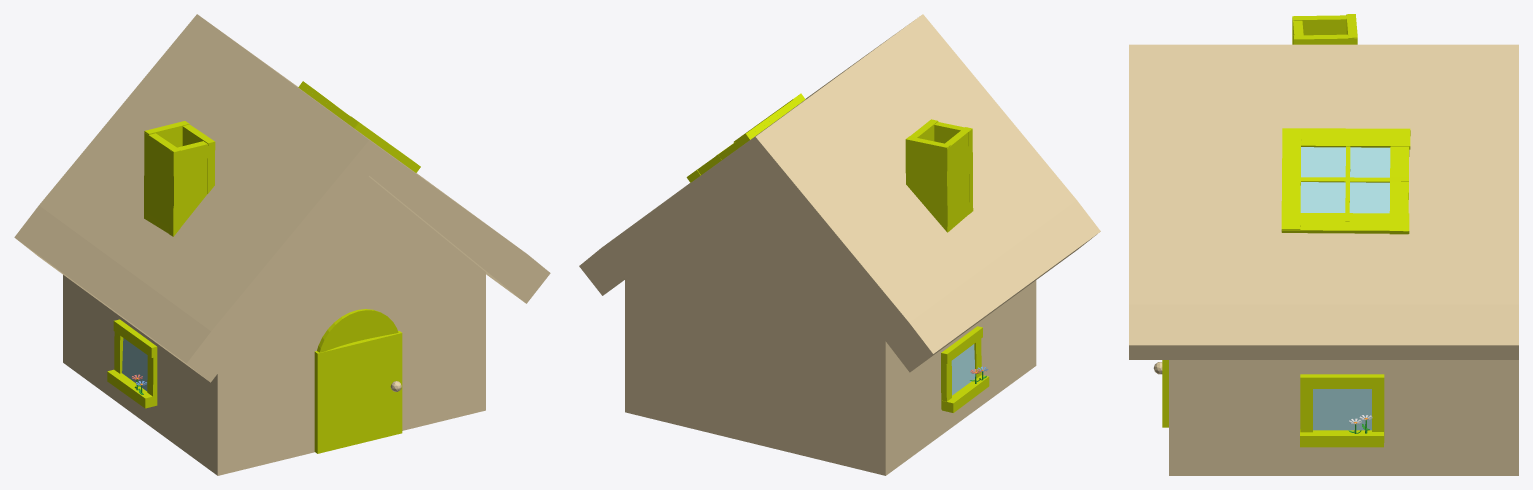
File: HouseYellow.fbx
3 renders of one model, left to right at view 1: azimuth 30°, elevation 25°; view 2: azimuth 150°, elevation 25°; view 3: azimuth 270°, elevation 25°, orthographic. The views are drawn at different scales.
Visible parts, largest first — view 1: Cube.114; view 2: Cube.114; view 3: Cube.114.
Part boxes in pixels (box(x1,y1,x2,y2)): Cube.114: box(14, 14, 550, 475); Cube.114: box(579, 14, 1100, 475); Cube.114: box(1129, 14, 1518, 475).
Size of the model in its own units: 47.49 by 39.38 by 38.92.
